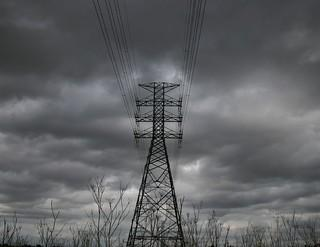power_tower: (126, 79, 193, 247)
